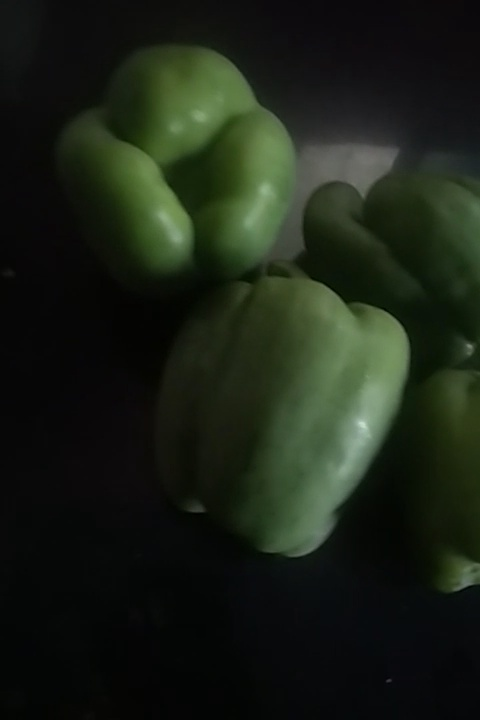capsicum: (150, 270, 404, 560), (40, 75, 323, 316), (312, 160, 480, 323), (404, 355, 480, 599)
